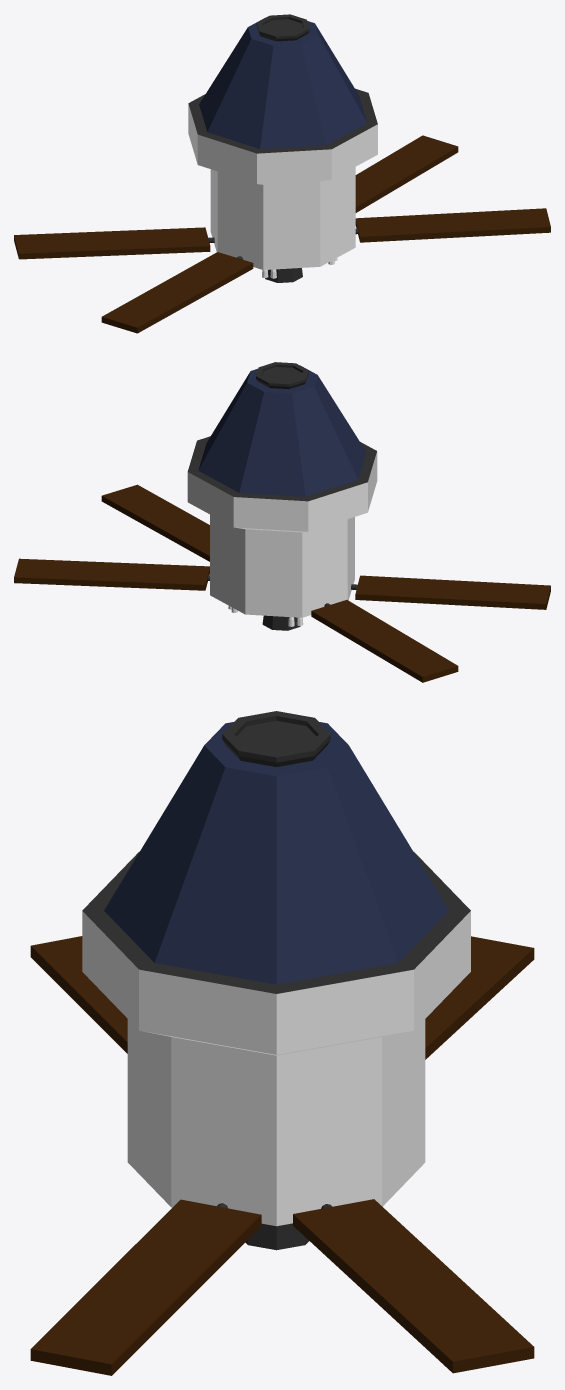
File: orion-spacecraft.glb
The picture shows the model from 3 angles, top to bottom: view 1: azimuth 30°, elevation 25°; view 2: azimuth 150°, elevation 25°; view 3: azimuth 270°, elevation 25°; orthographic projection. The views are drawn at different scales.
Parts seen in each view (by area): view 1: Cylinder_2, Cube_11, Cube.003_17, Cube.001_13, Cube.002_15; view 2: Cylinder_2, Cube.001_13, Cube.002_15, Cube_11, Cube.003_17; view 3: Cylinder_2, Cube.002_15, Cube.003_17, Cube_11, Cube.001_13.
Part boxes in pixels (x1,y1,x2,y2): Cylinder_2: [188, 14, 377, 282]; Cube_11: [14, 227, 210, 259]; Cube.003_17: [355, 208, 550, 242]; Cube.001_13: [101, 252, 253, 333]; Cube.002_15: [355, 135, 458, 212]; Cylinder_2: [187, 362, 377, 630]; Cube.001_13: [355, 575, 550, 609]; Cube.002_15: [14, 558, 209, 590]; Cube_11: [311, 600, 458, 682]; Cube.003_17: [101, 484, 209, 561]; Cylinder_2: [82, 711, 470, 1250]; Cube.002_15: [293, 1199, 534, 1373]; Cube.003_17: [30, 1199, 261, 1375]; Cube_11: [425, 936, 534, 1059]; Cube.001_13: [30, 936, 127, 1053].
Size of the model in its own units: 8.78 by 4.7 by 4.3.
